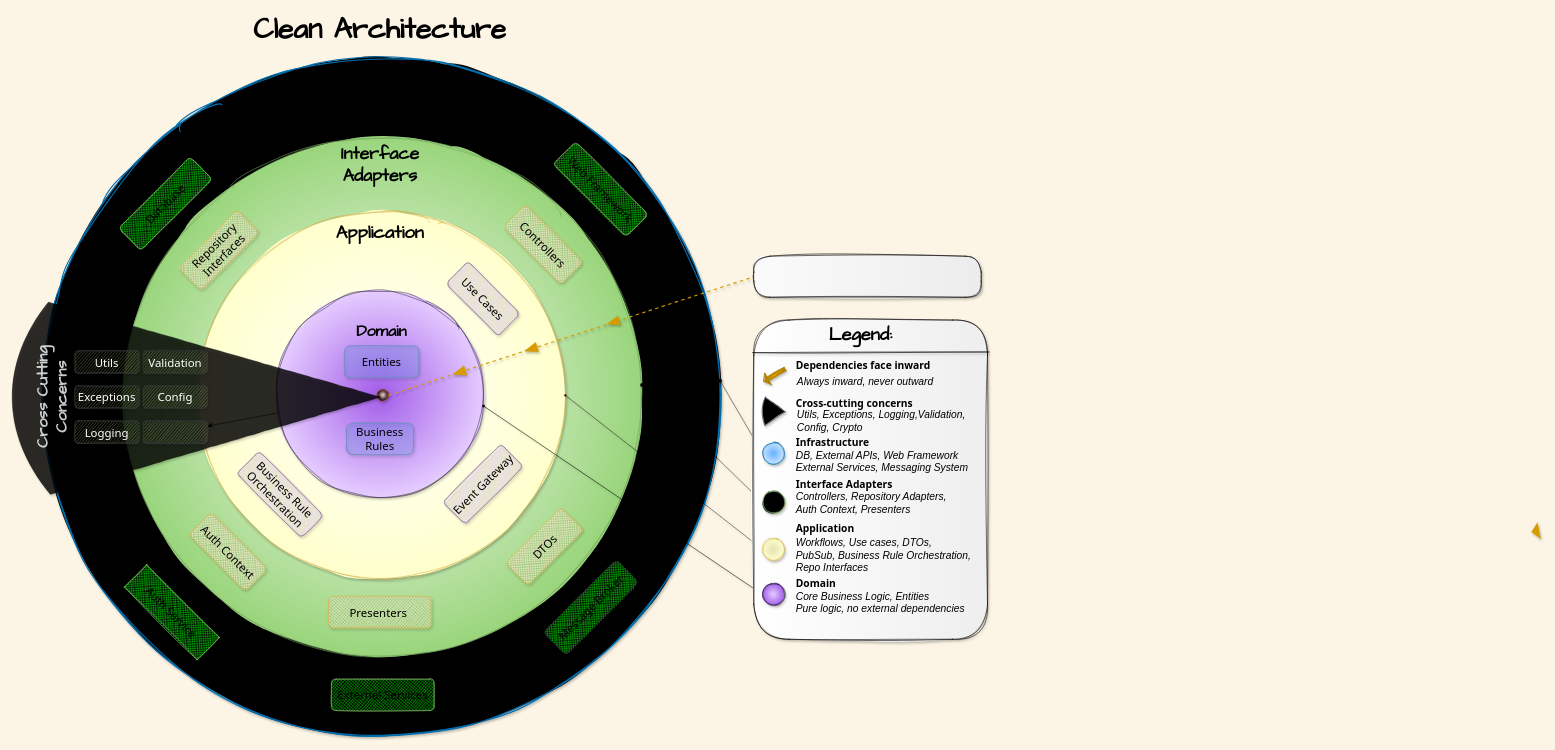
The diagram is 1555 pixels wide and 750 high, and some of its shapes have lost their labels. The centre of each missing label's shape, as x and y in pixels:
"Crypto" goes at (x=176, y=432).
"Outer layers have access to inner layers only" goes at (x=868, y=277).
